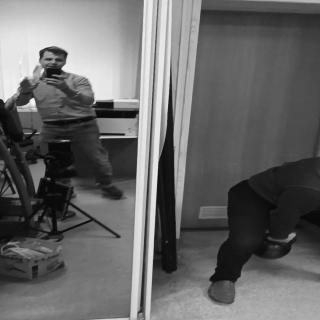kettlebell: (259, 233, 298, 262)
